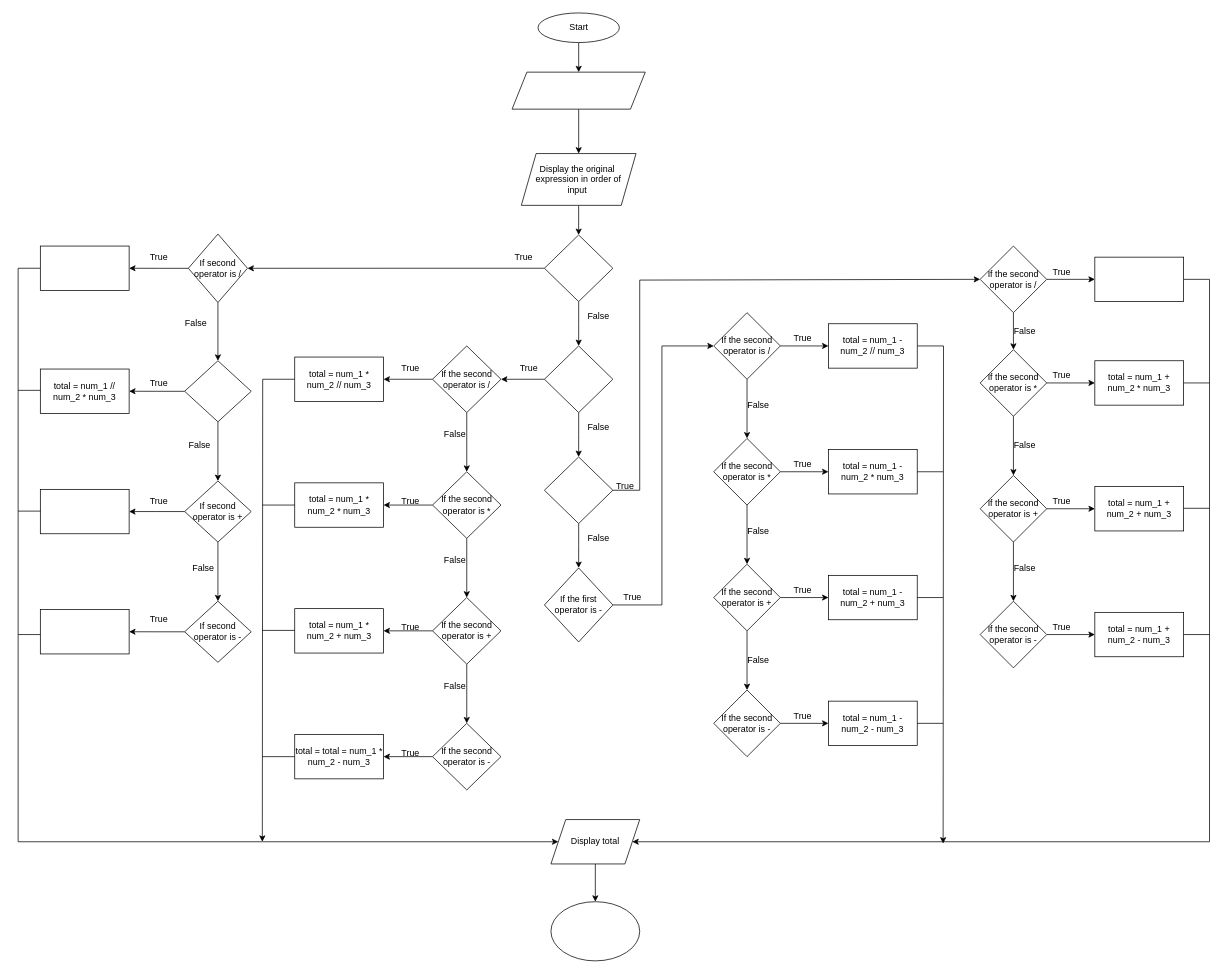
Image size: 1228x974. Some labels were removed from this diagram. The shapes that lost their labels are listed below. From the top down, each one's box as (x1, y1, x2, y2) in pixels, then its label:
(511, 71, 645, 109): User enters 3 numbers and 2 operators
(40, 245, 129, 290): total = num_1 // num_2 // num_3
(544, 234, 613, 302): If the first operator is /
(1094, 256, 1184, 302): total = num_1 + num_2 // num_3
(184, 360, 251, 422): If second operator is *
(544, 345, 613, 413): If the first operator is *
(544, 456, 613, 524): If the first operator is +
(40, 489, 129, 534): total = num_1 // num_2 + num_3
(40, 609, 129, 654): total = num_1 // num_2 - num_3
(550, 901, 640, 961): End
